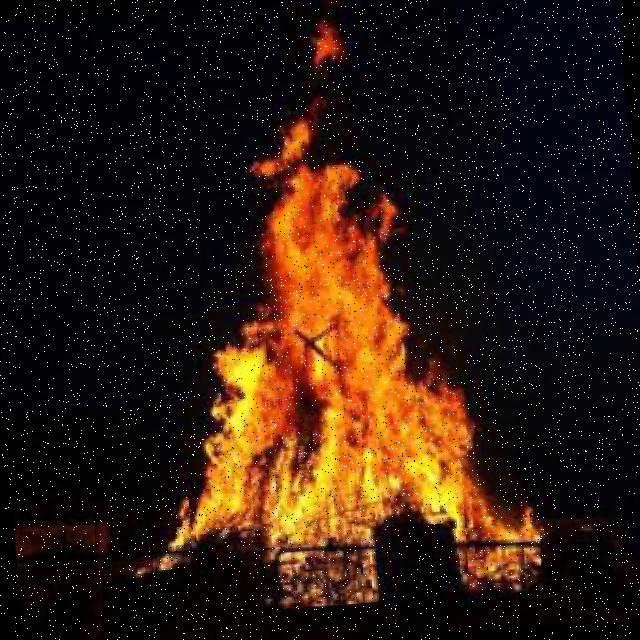fire: (166, 84, 544, 614)
